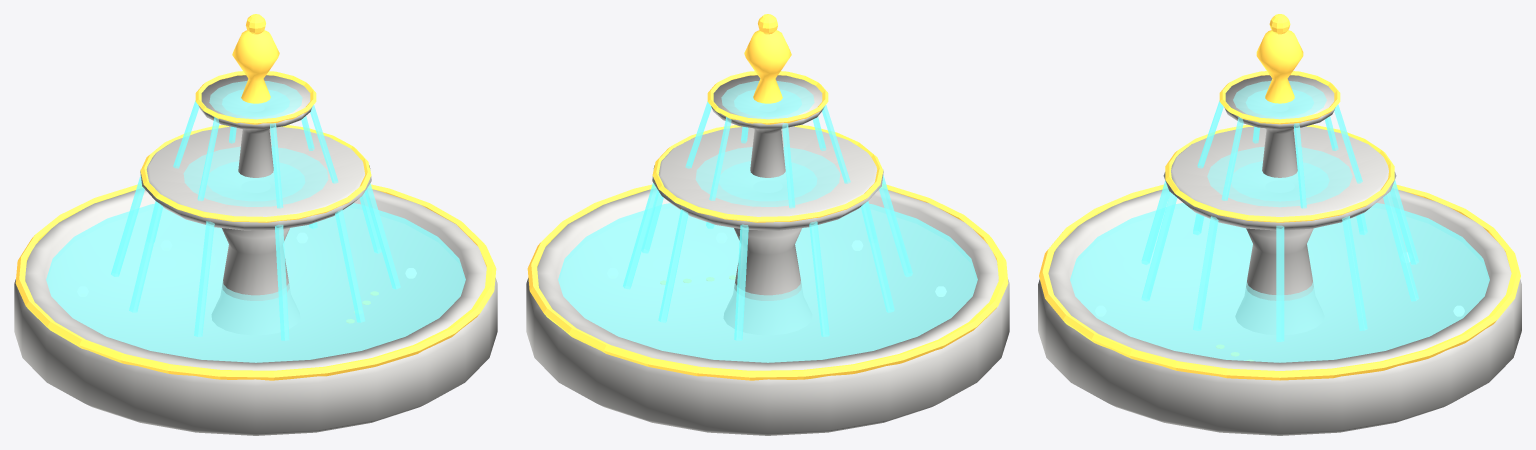
Rendered from lux_marble_fountain.glb.
3 views of the same model, side by side, from view 1: azimuth 30°, elevation 25°; view 2: azimuth 150°, elevation 25°; view 3: azimuth 270°, elevation 25° (orthographic).
Visible parts, largest first — view 1: lux_marble_fountain; view 2: lux_marble_fountain; view 3: lux_marble_fountain.
Boxes of the visible parts, box(x1,y1,x2,y2) form: lux_marble_fountain: box(14, 14, 497, 435); lux_marble_fountain: box(526, 14, 1009, 435); lux_marble_fountain: box(1038, 14, 1521, 435).
Bounding box in the file's own units: 3.24 × 2.39 × 3.24.
